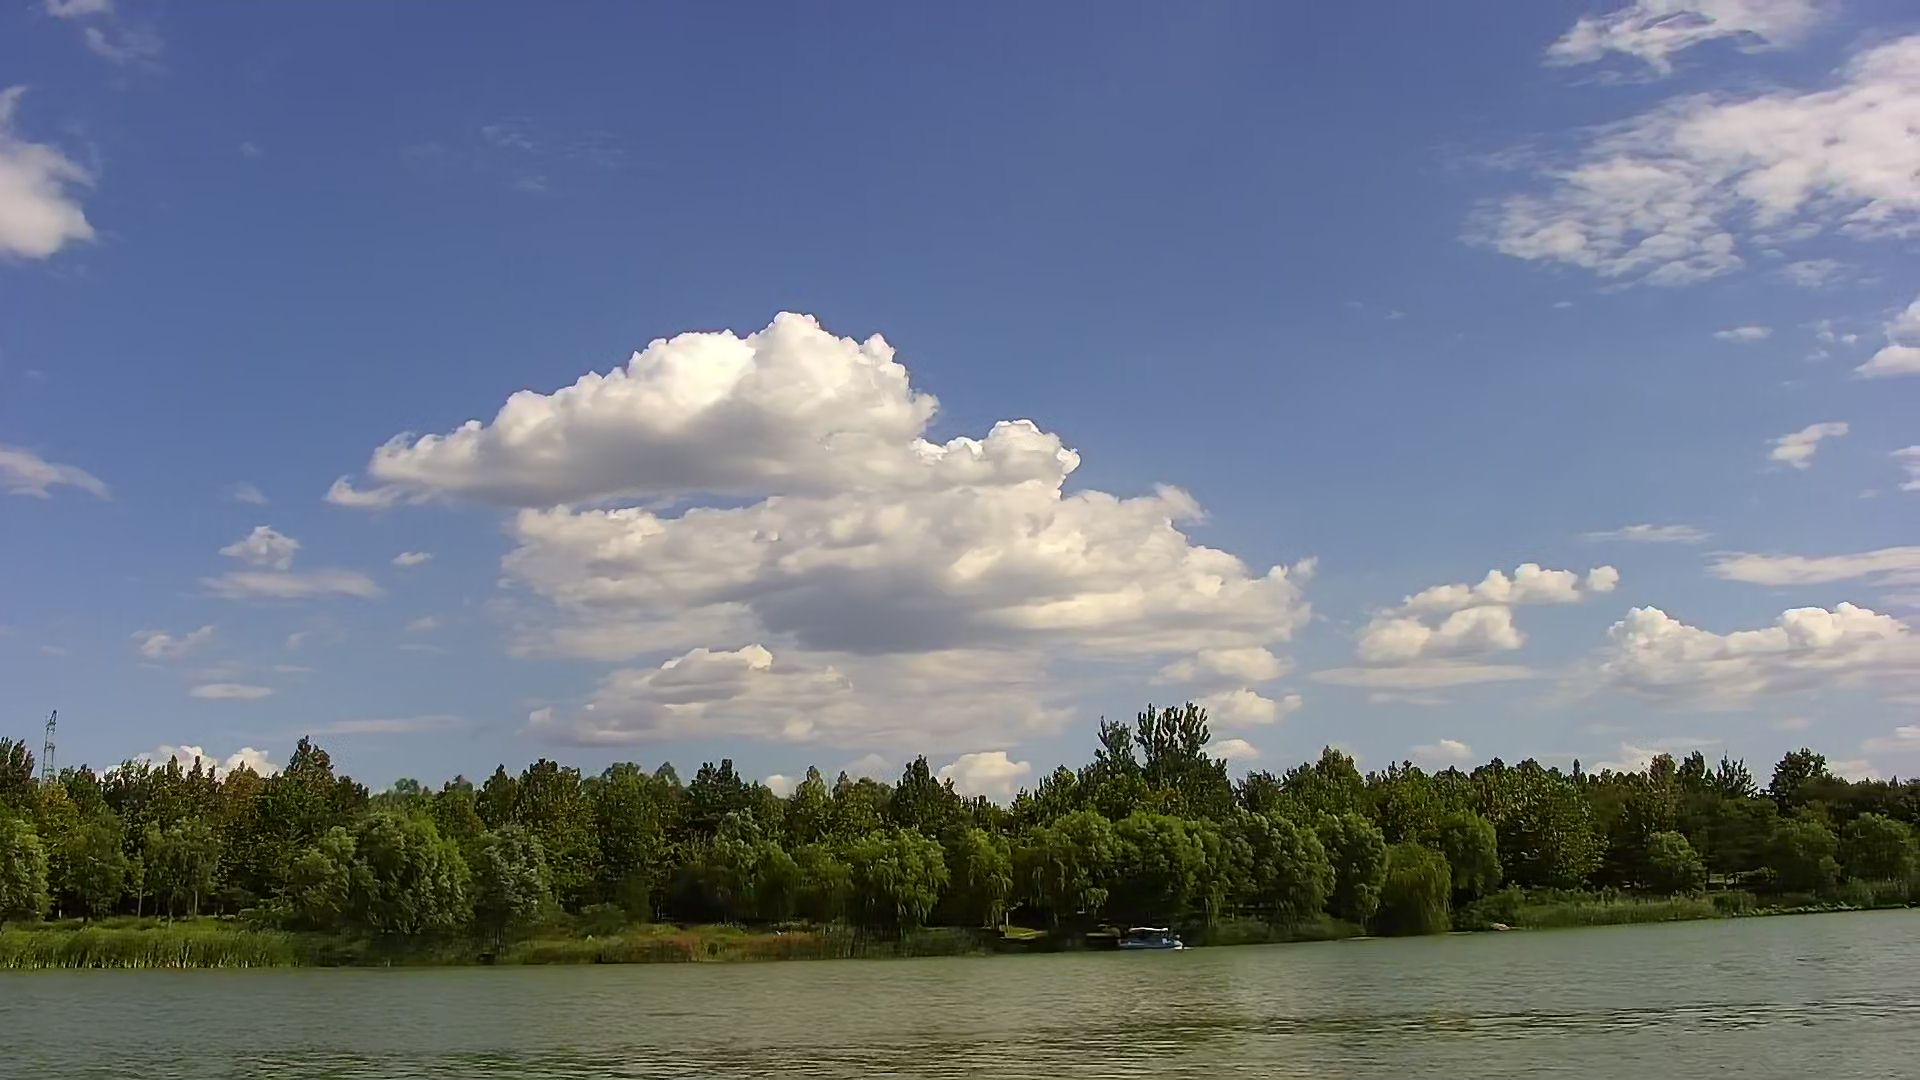boat: (1116, 922, 1188, 956)
